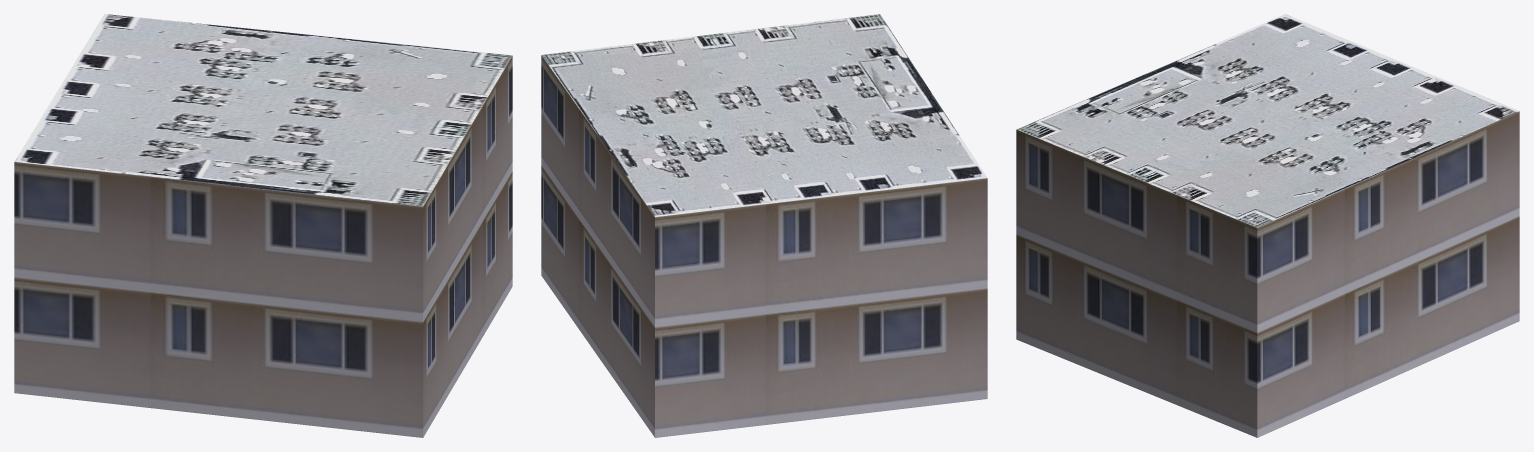
File: ResTex__1802.fbx
The picture shows the model from 3 angles, left to right: view 1: azimuth 30°, elevation 25°; view 2: azimuth 150°, elevation 25°; view 3: azimuth 270°, elevation 25°; orthographic projection. The views are drawn at different scales.
Parts seen in each view (by area): view 1: CityEngineMaterial_21_m, CityEngineMaterial_2_m; view 2: CityEngineMaterial_21_m, CityEngineMaterial_2_m; view 3: CityEngineMaterial_21_m, CityEngineMaterial_2_m.
Part boxes in pixels (left/top/right/bottom): CityEngineMaterial_21_m: left=14, top=56, right=512, bottom=437; CityEngineMaterial_2_m: left=14, top=14, right=512, bottom=206; CityEngineMaterial_21_m: left=541, top=55, right=987, bottom=437; CityEngineMaterial_2_m: left=542, top=14, right=987, bottom=216; CityEngineMaterial_21_m: left=1016, top=111, right=1519, bottom=437; CityEngineMaterial_2_m: left=1016, top=14, right=1519, bottom=227.
Size of the model in its own units: 13.11 by 6 by 13.03.
2 materials, 2 textured.
